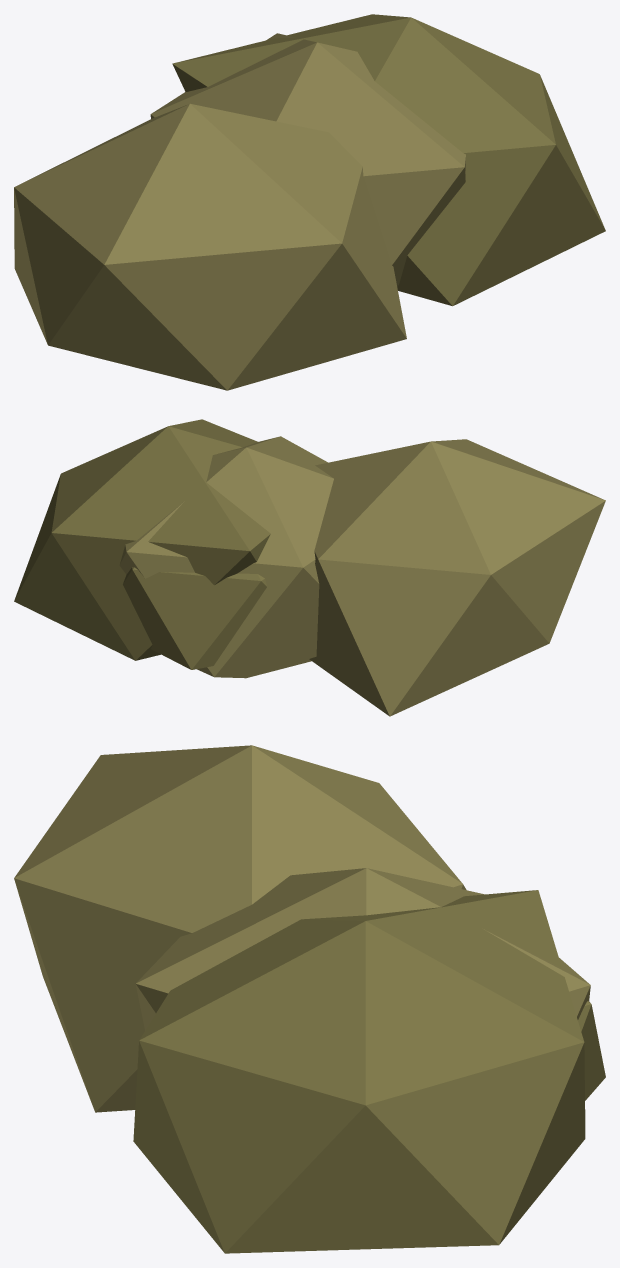
File: bush_dry.glb
3 views of the same model, one above another, from view 1: azimuth 30°, elevation 25°; view 2: azimuth 150°, elevation 25°; view 3: azimuth 270°, elevation 25° (orthographic). The views are drawn at different scales.
Visible parts, largest first — view 1: Tree; view 2: Tree; view 3: Tree.
Boxes of the visible parts, x1,y1,x2,y2 form: Tree: [14, 14, 605, 390]; Tree: [14, 419, 605, 716]; Tree: [14, 745, 605, 1253].
Size of the model in its own units: 2.26 by 1.14 by 1.72.
